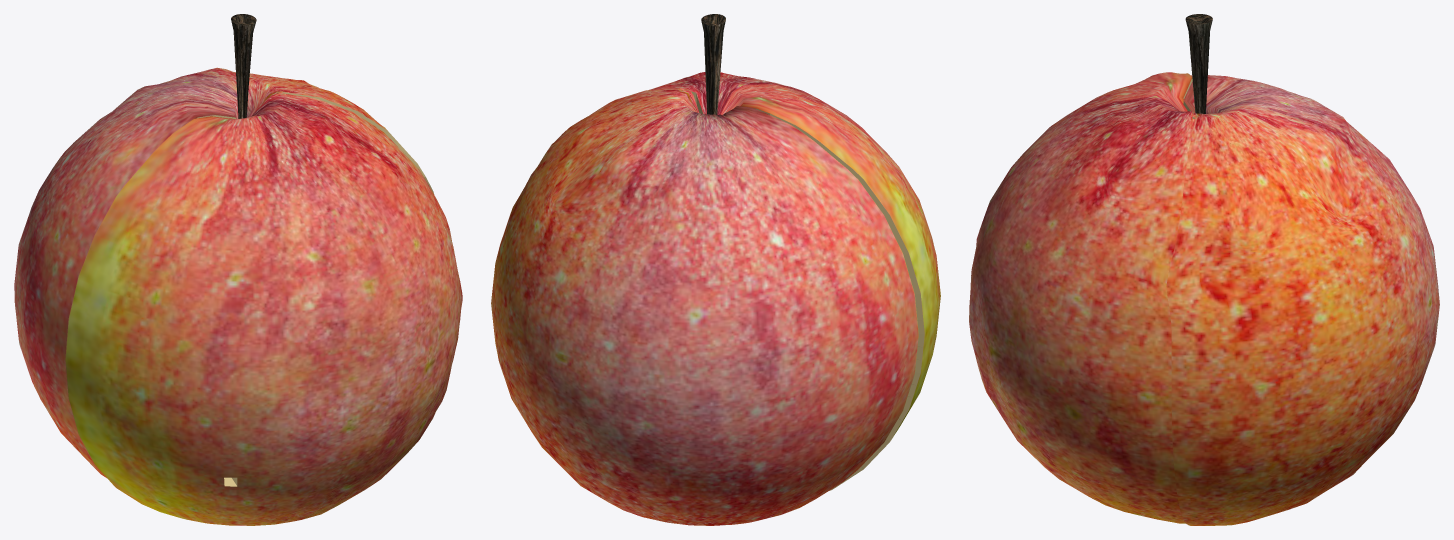
File: Apple.glb
3 renders of one model, left to right at view 1: azimuth 30°, elevation 25°; view 2: azimuth 150°, elevation 25°; view 3: azimuth 270°, elevation 25°, orthographic.
Visible parts, largest first — view 1: Apple1.002, Seed.002, Seed.003, Seed.004; view 2: Seed.002, Apple1.002, Apple1.003, Seed.003; view 3: Seed.002, Apple1.002, Seed.003.
Part boxes in pixels (x1,y1,x2,y2): Apple1.002: (65, 93, 462, 525); Seed.002: (14, 67, 387, 477); Seed.003: (231, 14, 256, 118); Seed.004: (197, 92, 434, 194); Seed.002: (491, 88, 918, 525); Apple1.002: (649, 72, 940, 439); Apple1.003: (682, 89, 924, 490); Seed.003: (701, 14, 725, 114); Seed.002: (1166, 75, 1439, 525); Apple1.002: (969, 72, 1196, 523); Seed.003: (1185, 14, 1212, 113).
Size of the model in its own units: 4.62 by 5.44 by 4.87.
13 materials, 2 textured.
